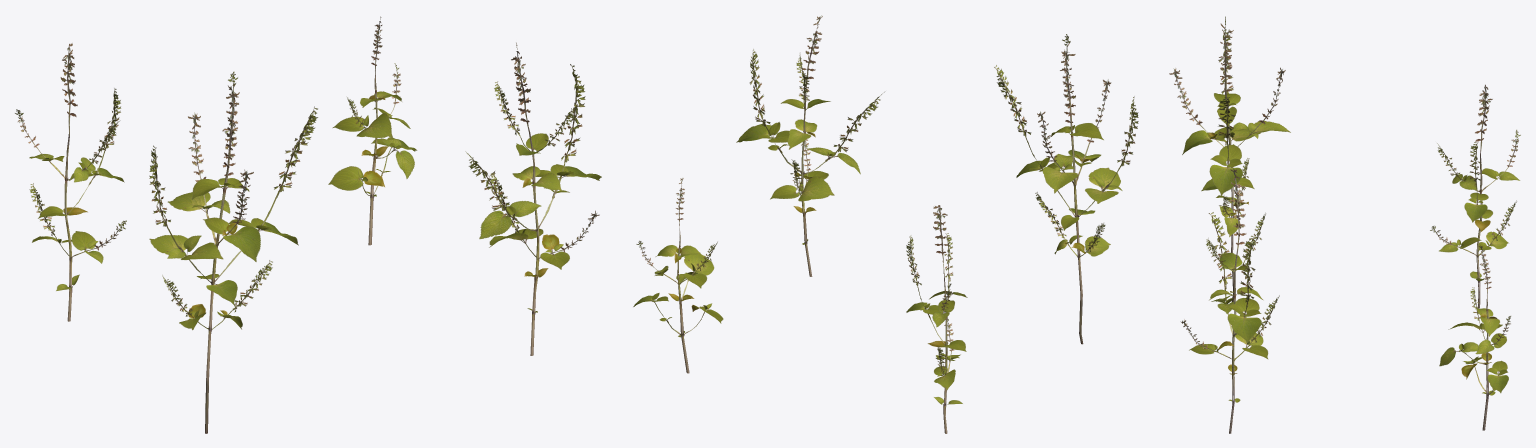
File: arbusto_b.glb
The picture shows the model from 3 angles, left to right: view 1: azimuth 30°, elevation 25°; view 2: azimuth 150°, elevation 25°; view 3: azimuth 270°, elevation 25°; orthographic projection. The views are drawn at different scales.
Parts seen in each view (by area): view 1: arbusto_b; view 2: arbusto_b; view 3: arbusto_b.
Part boxes in pixels (left/top/right/bottom): arbusto_b: left=15, top=16, right=601, bottom=433; arbusto_b: left=633, top=15, right=1138, bottom=433; arbusto_b: left=1169, top=16, right=1520, bottom=433.
Size of the model in its own units: 0.5425 by 0.4028 by 0.4322.
1 material, 1 textured.
